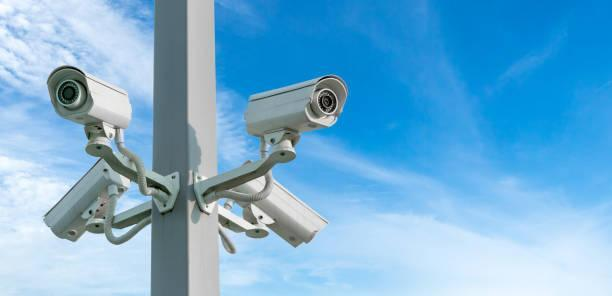camera: (216, 159, 346, 247), (236, 65, 355, 158), (34, 158, 148, 247), (22, 63, 139, 142)
